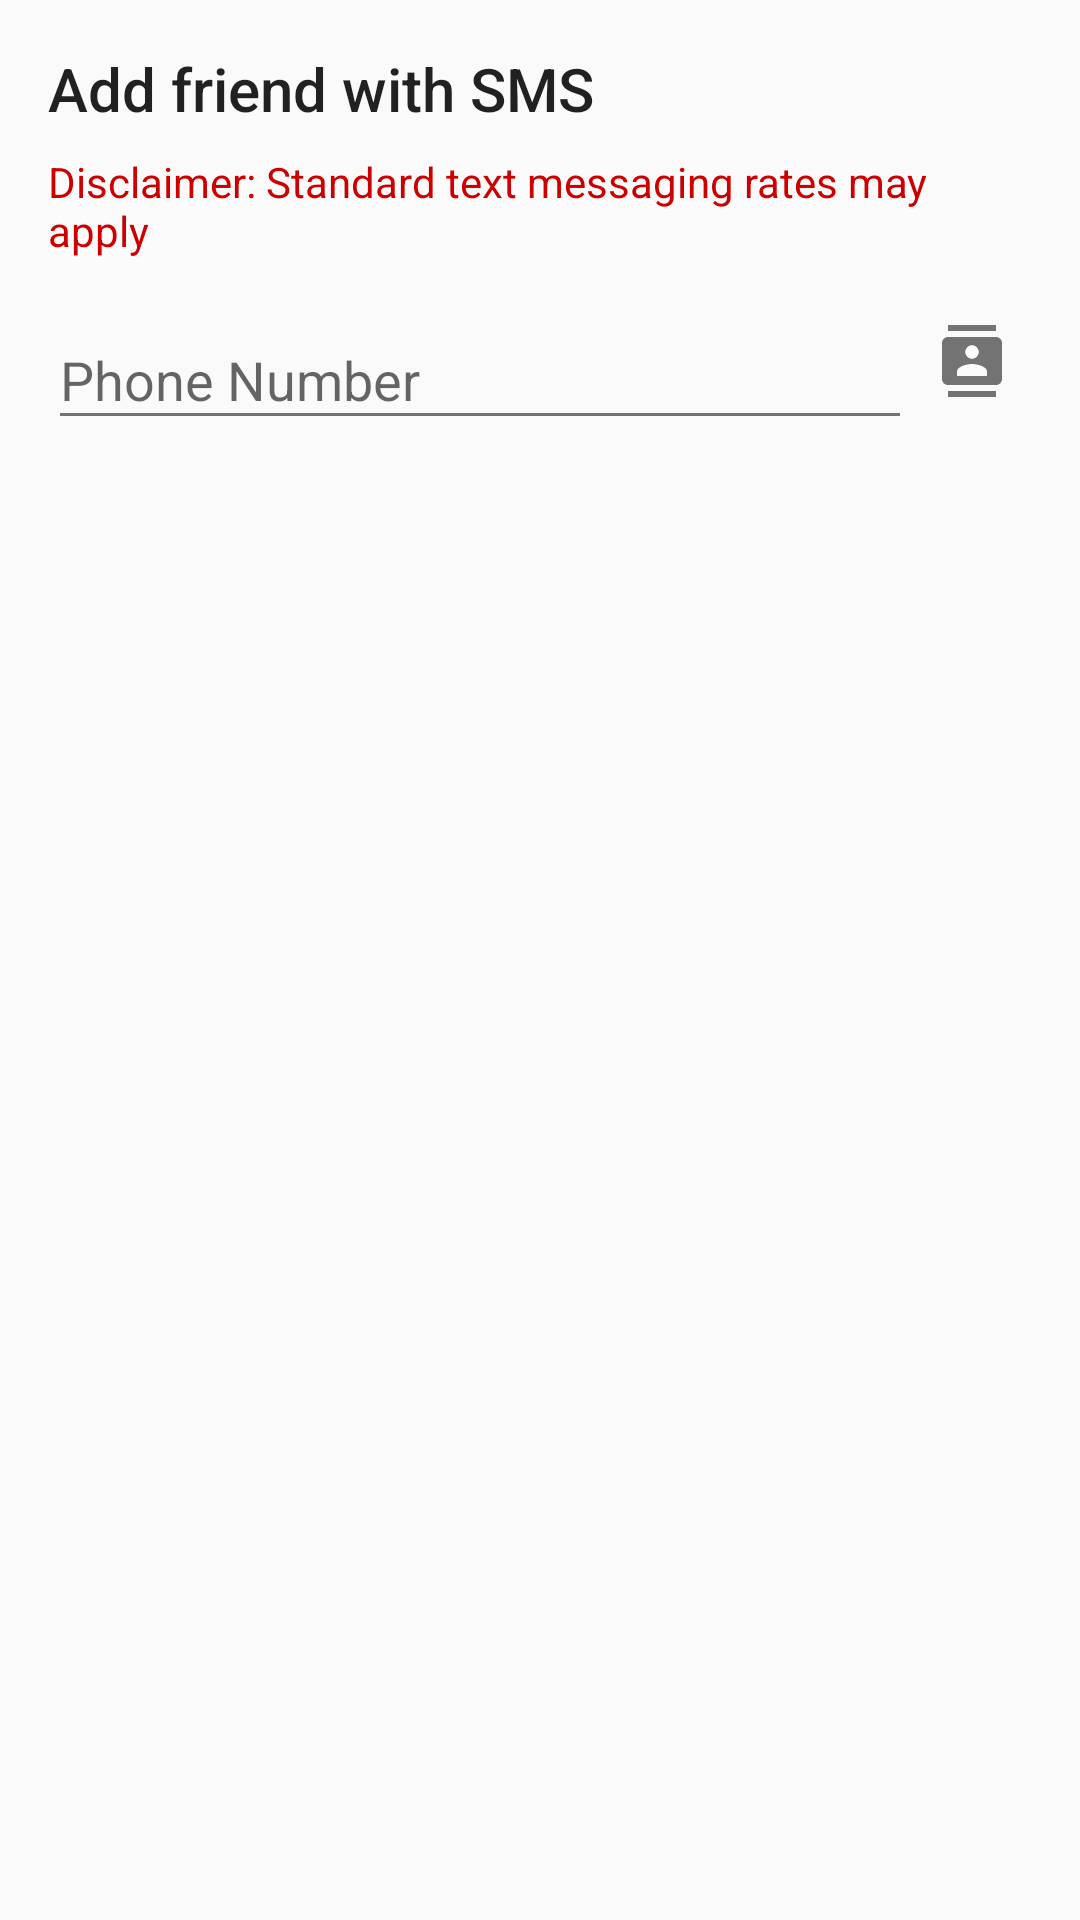

Icons on this 1080 x 1920 Android screen, each with the point to tap as point (x, y):
contacts: point (972, 361)
